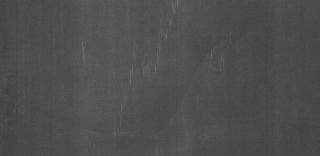silk spot: (127, 4, 191, 86), (109, 94, 131, 130), (76, 40, 90, 68)
